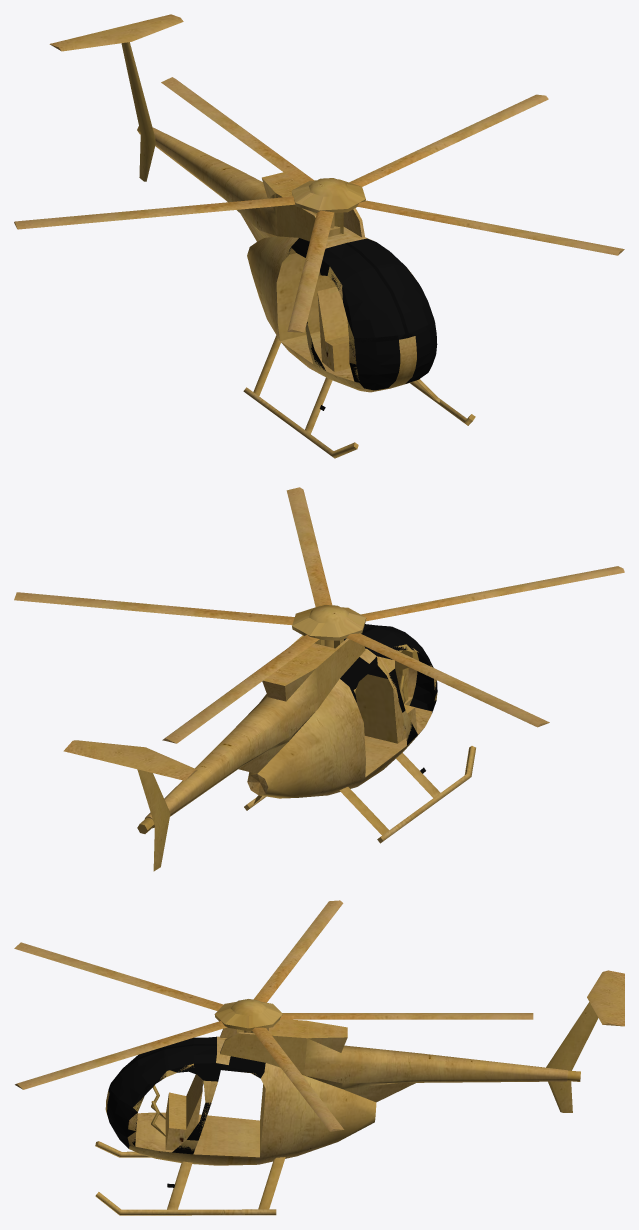
File: Helicopter.fbx
3 views of the same model, one above another, from view 1: azimuth 30°, elevation 25°; view 2: azimuth 150°, elevation 25°; view 3: azimuth 270°, elevation 25° (orthographic). The views are drawn at different scales.
Visible parts, largest first — view 1: md501; view 2: md501; view 3: md501.
Part boxes in pixels (x1=…): md501: x1=14, y1=14, x2=624, y2=458; md501: x1=14, y1=487, x2=624, y2=871; md501: x1=14, y1=900, x2=624, y2=1215.
Bounding box in the file's own units: 18.74 × 7.12 × 20.99.
